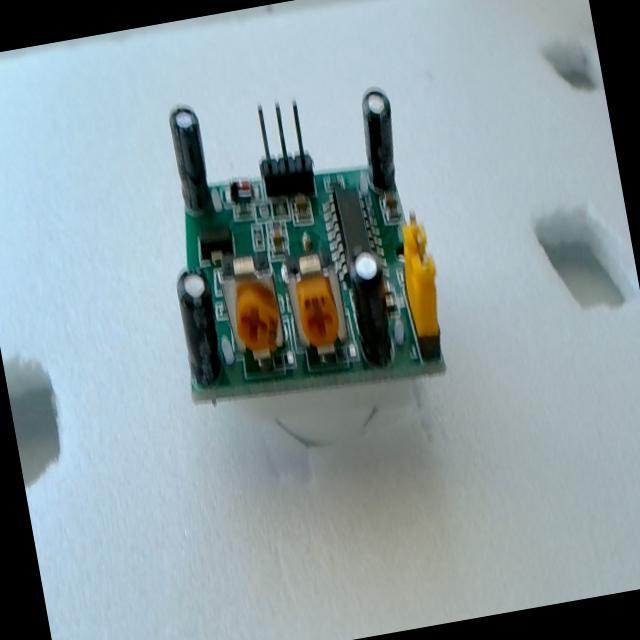Electrolytic capacitor: (172, 264, 228, 388), (344, 246, 399, 368), (352, 83, 406, 198), (165, 100, 215, 218)
IC: (318, 182, 388, 274)
pinheader: (249, 96, 318, 202)
